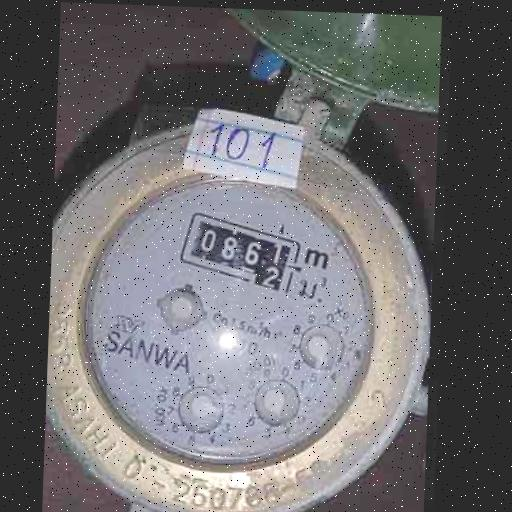0: (189, 220, 224, 262)
1: (254, 240, 291, 291)
6: (236, 234, 268, 276)
8: (212, 227, 248, 269)
border_water_meter_number: (176, 209, 303, 295)
